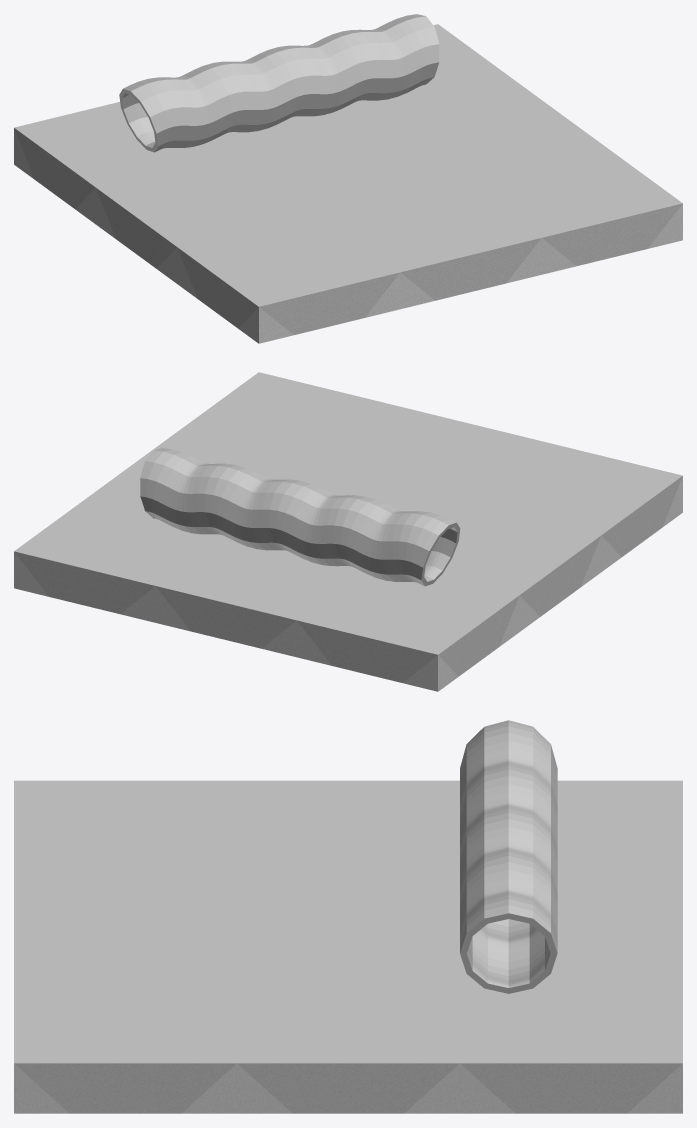
The model's file is invisible_face2.obj.
3 renders of one model, top to bottom at view 1: azimuth 30°, elevation 25°; view 2: azimuth 150°, elevation 25°; view 3: azimuth 270°, elevation 25°, orthographic. The views are drawn at different scales.
Visible parts, largest first — view 1: entity0_brush0; view 2: entity0_brush0; view 3: entity0_brush0.
Part boxes in pixels (x1,y1,x2,y2): entity0_brush0: (14,24,682,343); entity0_brush0: (14,372,682,691); entity0_brush0: (14,780,682,1113).
Bounding box in the file's own units: 384 × 96 × 384.
